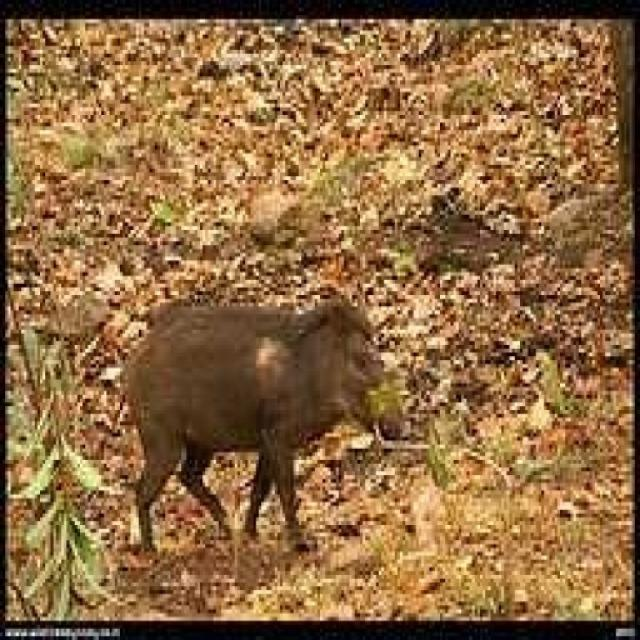pig: (97, 220, 427, 542)
